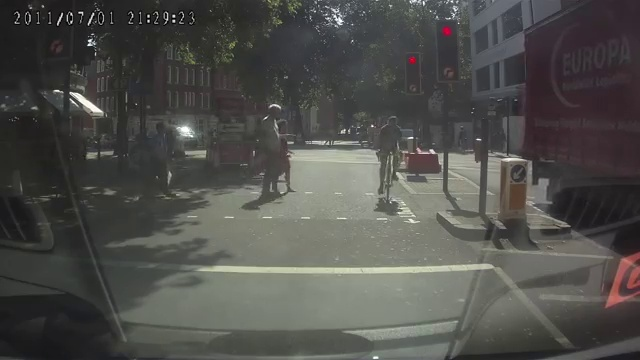cyclist_front: (373, 115, 403, 213)
